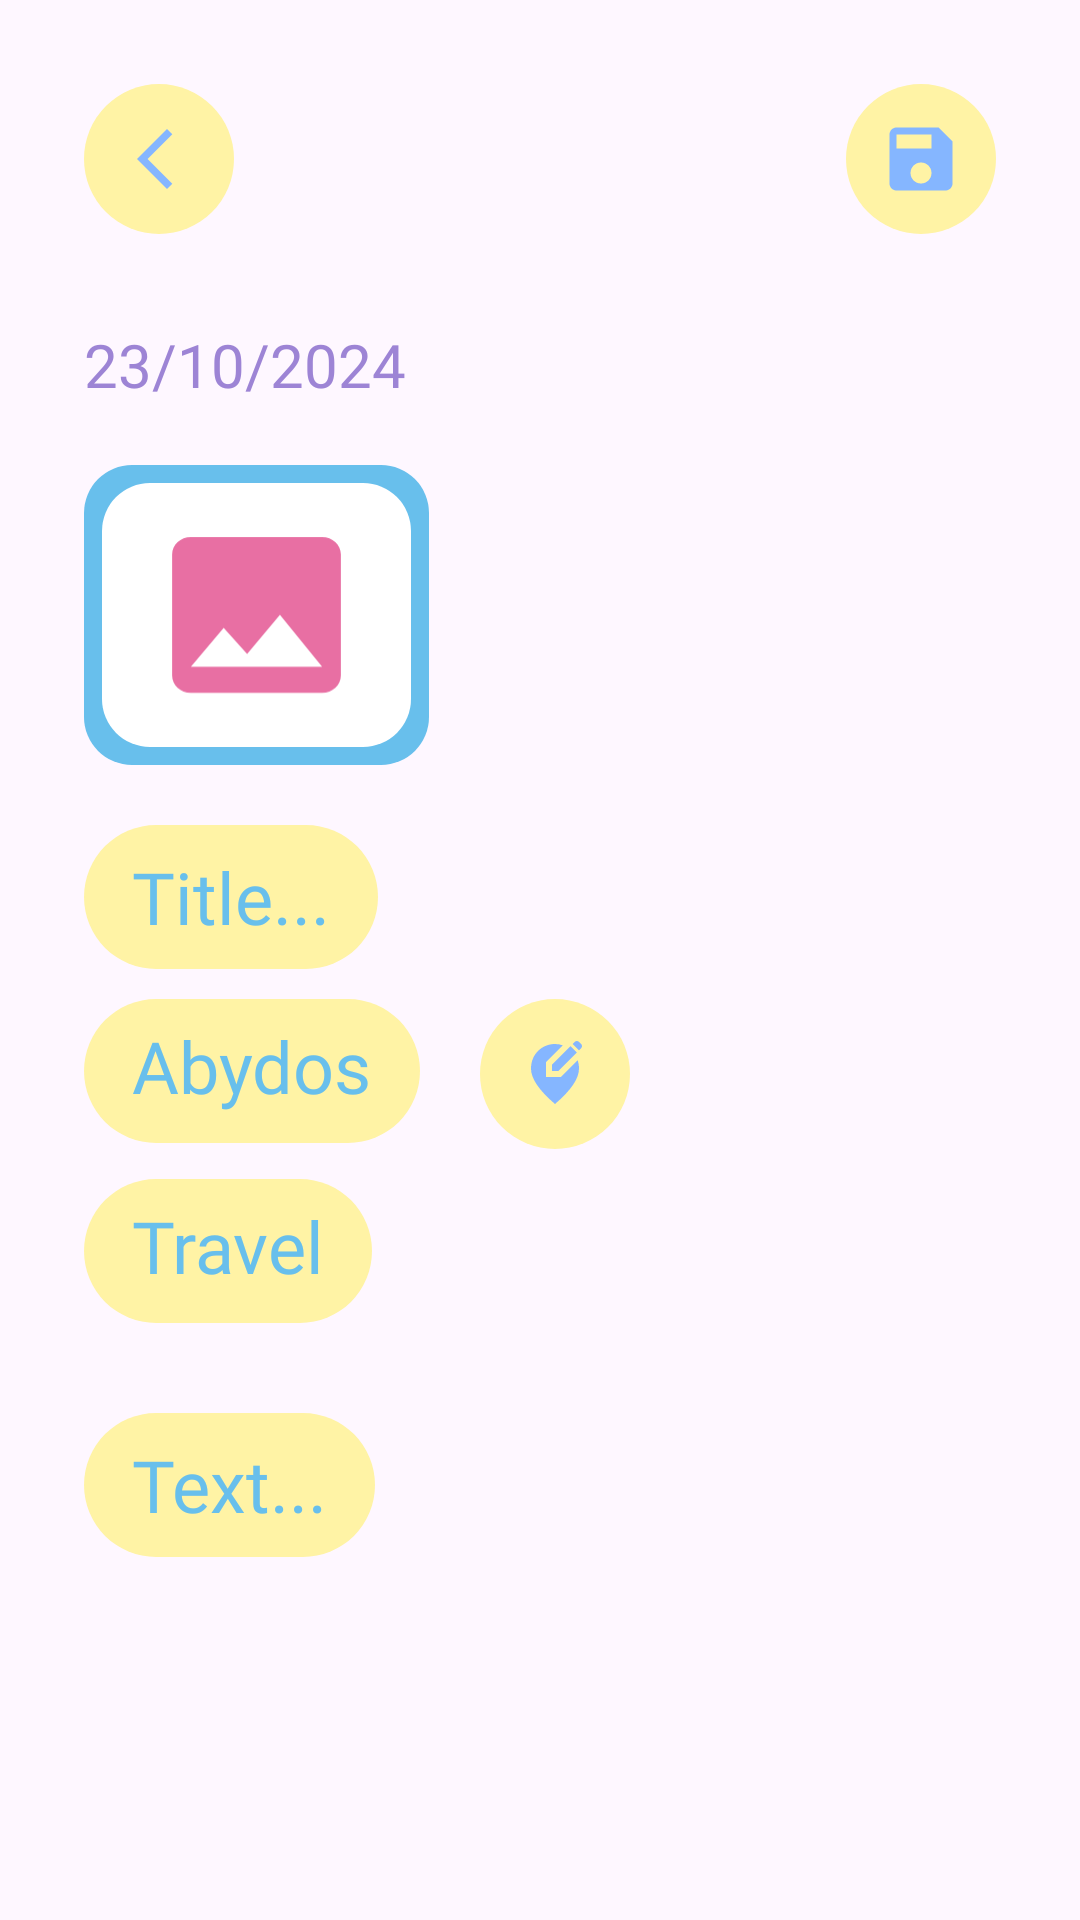

Icon click points for this 1080x1920 phone screenshot, format [x,y]:
back: [159,159]
location edit: [555,1074]
photo: [256,615]
save: [921,159]
